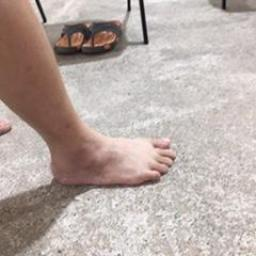Lateral View -Right Foot-: (20, 122, 182, 194)
